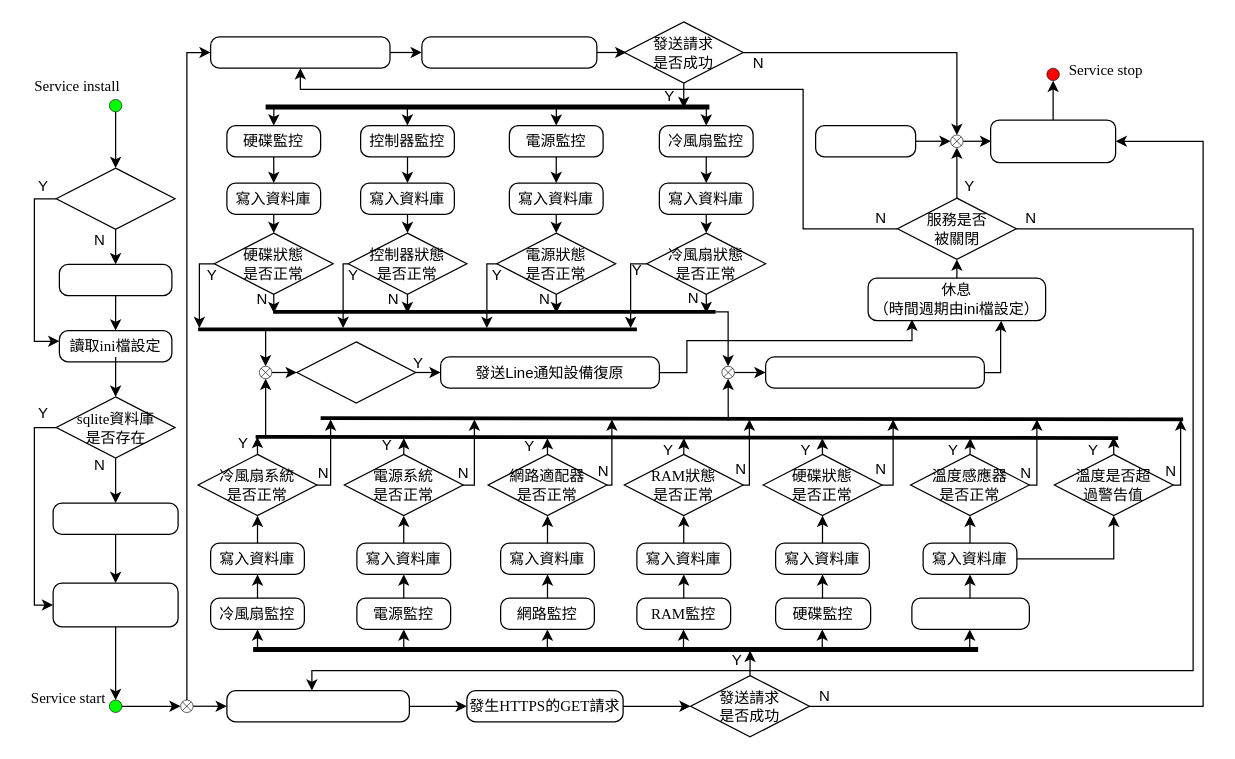
This 1235x759 diagram has some shape labels left out. Each missing label, with the box of its shape:
ini 設定檔 是否存在: (55, 167, 175, 229)
上次監控是否 發生異常: (296, 341, 416, 403)
建立 ini 檔: (58, 263, 172, 296)
建立 sqlite 資料庫: (52, 502, 178, 534)
溫度感應器監控: (911, 597, 1029, 629)
發生 GET 請求到 XML API: (421, 36, 597, 68)
發送 Line 通知 監控系統被關閉: (989, 119, 1116, 162)
發送Line通知 監控系統啟動: (52, 582, 178, 627)
連接到 iLO ProLiant Server: (226, 689, 409, 722)
連接到 P2000 MSA Storage: (209, 36, 390, 68)
連續發送 Line 通知發生異常: (764, 356, 984, 388)
關閉監控系統: (814, 124, 916, 157)
